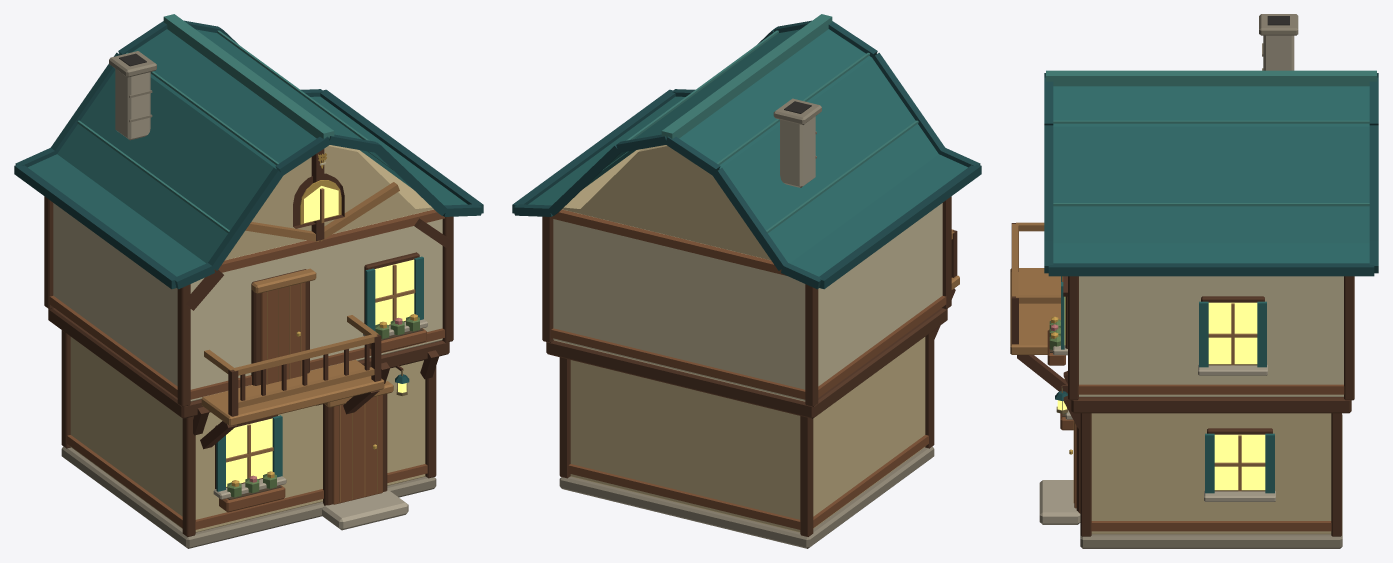
The model's file is house-d.glb.
3 views of the same model, side by side, from view 1: azimuth 30°, elevation 25°; view 2: azimuth 150°, elevation 25°; view 3: azimuth 270°, elevation 25° (orthographic). The views are drawn at different scales.
Parts seen in each view (by area): view 1: house-d; view 2: house-d; view 3: house-d.
Boxes of the visible parts, box(x1,y1,x2,y2) form: house-d: box(14, 14, 483, 548); house-d: box(512, 14, 981, 548); house-d: box(1010, 14, 1378, 548).
Bounding box in the file's own units: 6.92 × 8.7 × 6.84.
